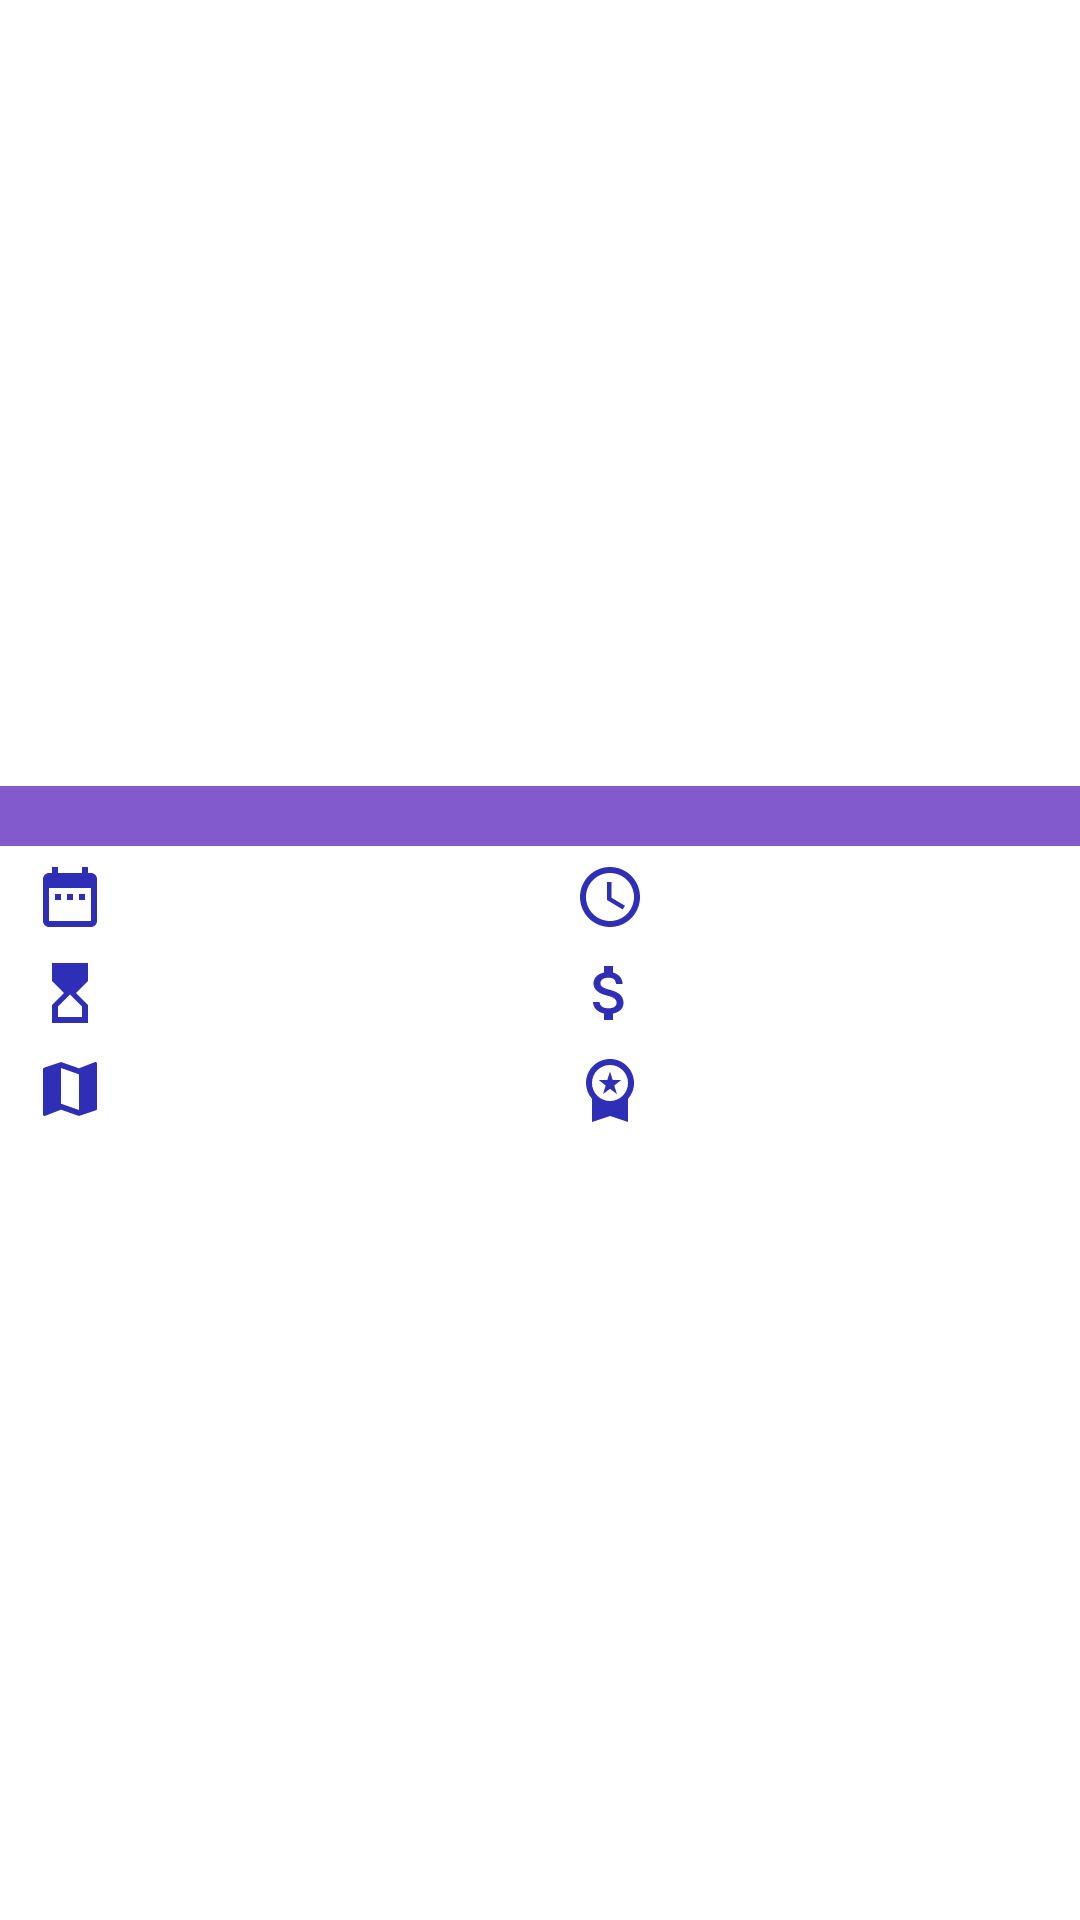

Screen size 1080×1920. Icon name, then its center in pixels as (x,y):
access time: (610,897)
attach money: (608,993)
date range: (70,897)
hourglass top: (70,993)
map: (70,1089)
workspace premium: (610,1090)
